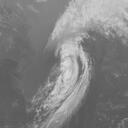cyclone: (54, 41, 86, 98)
